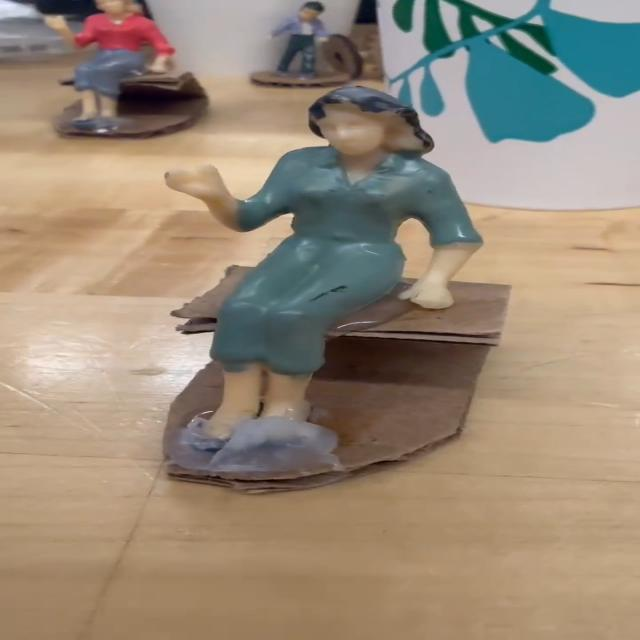Authorized: (156, 71, 448, 466)
